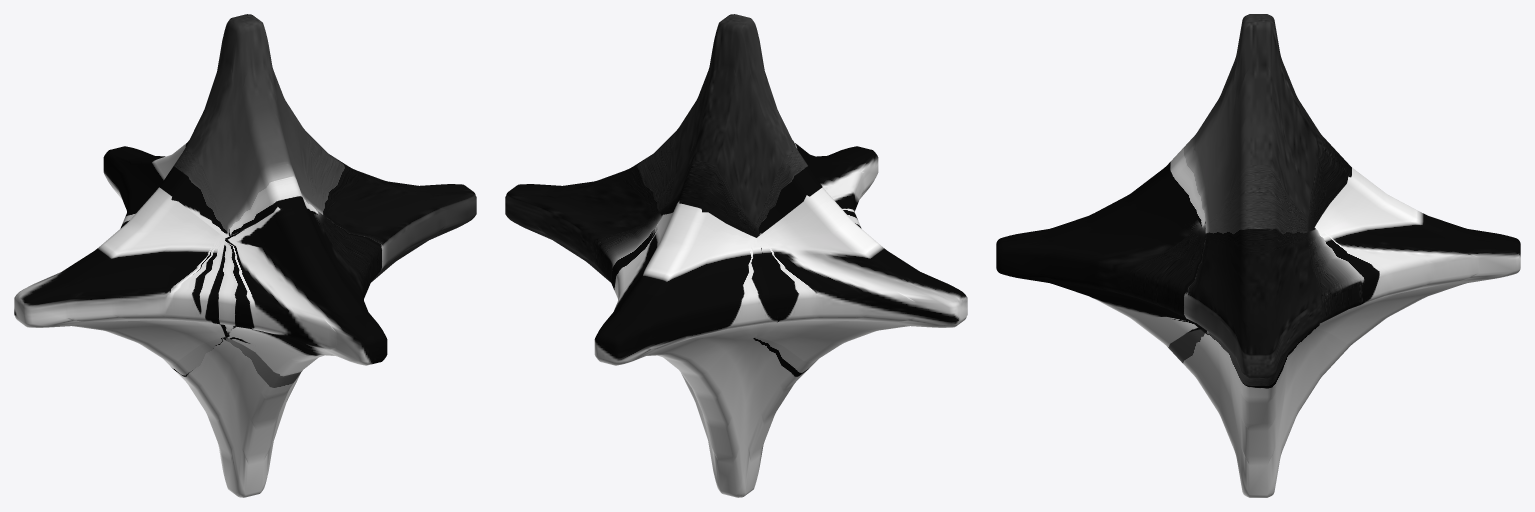
Rendered from thing.glb.
The picture shows the model from 3 angles, left to right: view 1: azimuth 30°, elevation 25°; view 2: azimuth 150°, elevation 25°; view 3: azimuth 270°, elevation 25°; orthographic projection.
Parts seen in each view (by area): view 1: Cube; view 2: Cube; view 3: Cube.
Boxes of the visible parts, left/top/right/bottom form: Cube: left=14, top=14, right=476, bottom=497; Cube: left=505, top=14, right=967, bottom=497; Cube: left=996, top=14, right=1520, bottom=497.
Bounding box in the file's own units: 2 × 2 × 2.
Materials: 1 (1 with a texture image).
